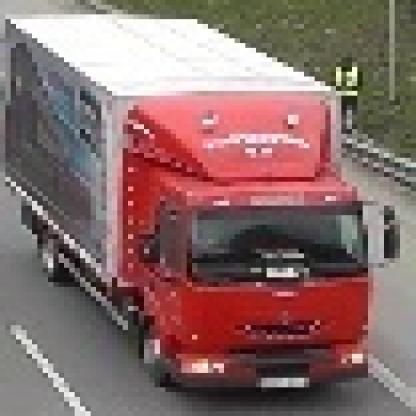truck: (1, 11, 396, 388)
